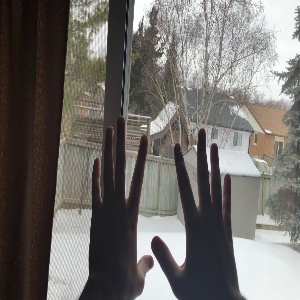hand: (151, 128, 237, 295), (89, 116, 154, 295)
